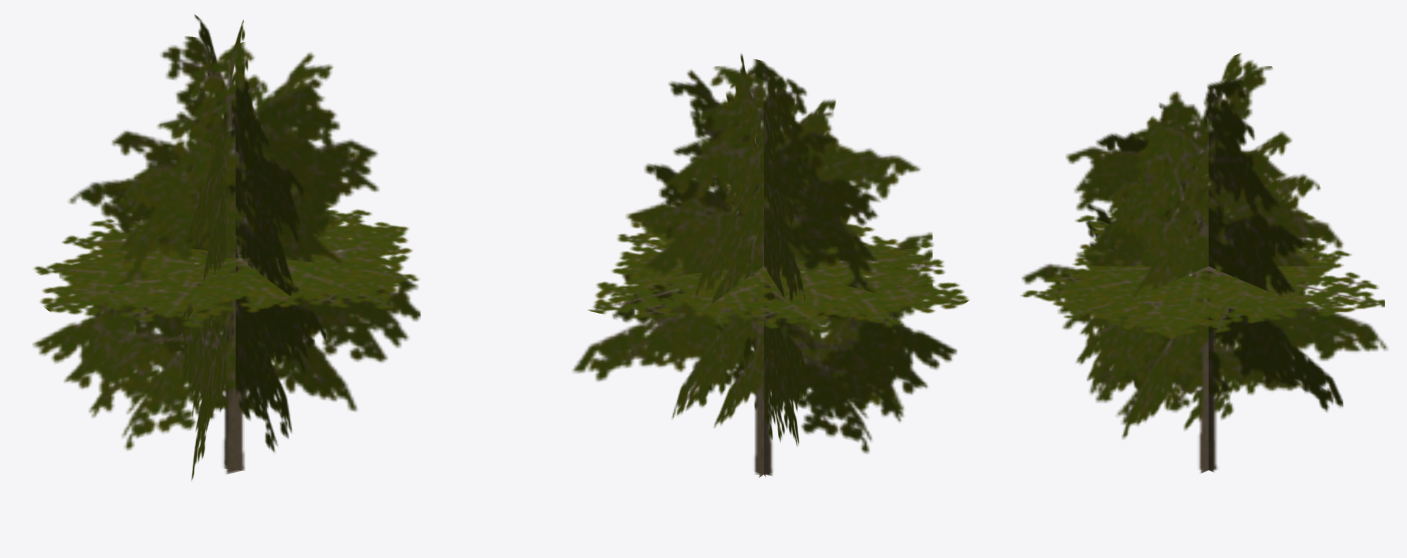
The model's file is maple_acer_small_2_billboard.gltf.
The picture shows the model from 3 angles, left to right: view 1: azimuth 30°, elevation 25°; view 2: azimuth 150°, elevation 25°; view 3: azimuth 270°, elevation 25°; orthographic projection. The views are drawn at different scales.
Visible parts, largest first — view 1: Acer_small_2_Billboard_LOD3_Acer_small_2_Billboard_Mat_0; view 2: Acer_small_2_Billboard_LOD3_Acer_small_2_Billboard_Mat_0; view 3: Acer_small_2_Billboard_LOD3_Acer_small_2_Billboard_Mat_0.
Part boxes in pixels (left/top/right/bottom): Acer_small_2_Billboard_LOD3_Acer_small_2_Billboard_Mat_0: left=32, top=14, right=420, bottom=480; Acer_small_2_Billboard_LOD3_Acer_small_2_Billboard_Mat_0: left=572, top=53, right=969, bottom=477; Acer_small_2_Billboard_LOD3_Acer_small_2_Billboard_Mat_0: left=1021, top=53, right=1387, bottom=473.
Size of the model in its own units: 5.63 by 6.32 by 5.3.
1 material, 1 textured.
